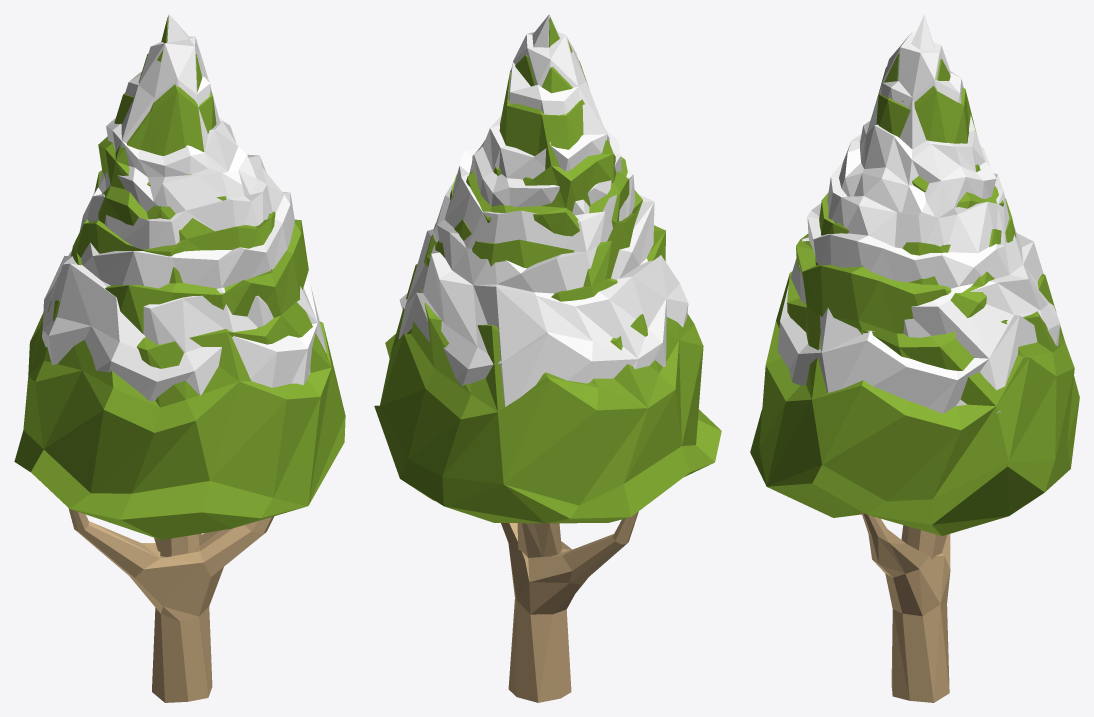
The model's file is SnowtulipC.fbx.
The picture shows the model from 3 angles, left to right: view 1: azimuth 30°, elevation 25°; view 2: azimuth 150°, elevation 25°; view 3: azimuth 270°, elevation 25°; orthographic projection.
Visible parts, largest first — view 1: leaves.008, leaves.010, trunk.002; view 2: leaves.008, leaves.010, trunk.002; view 3: leaves.008, leaves.010, trunk.002.
Boxes of the visible parts, x1,y1,x2,y2 form: leaves.008: [14, 17, 345, 539]; leaves.010: [42, 14, 326, 401]; trunk.002: [68, 508, 274, 702]; leaves.008: [374, 17, 721, 523]; leaves.010: [389, 14, 688, 406]; trunk.002: [501, 511, 638, 702]; leaves.008: [750, 53, 1079, 535]; leaves.010: [777, 14, 1060, 413]; trunk.002: [861, 101, 950, 702].
Size of the model in its own units: 357 by 815 by 362.
